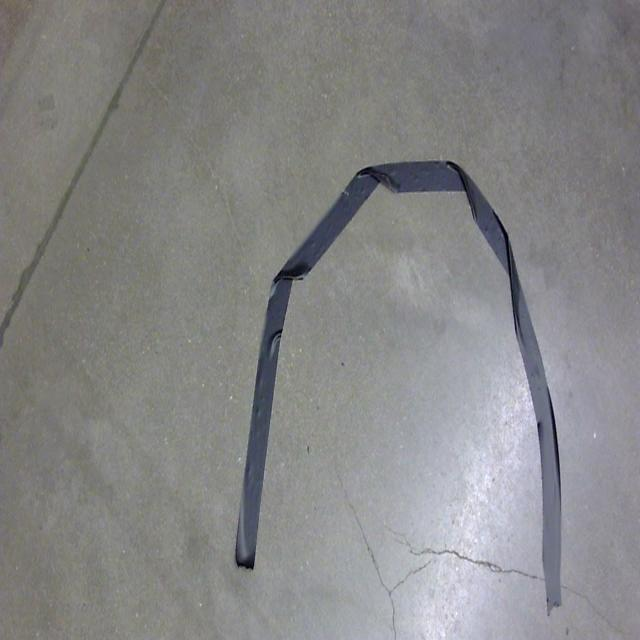tape: (223, 111, 589, 627)
